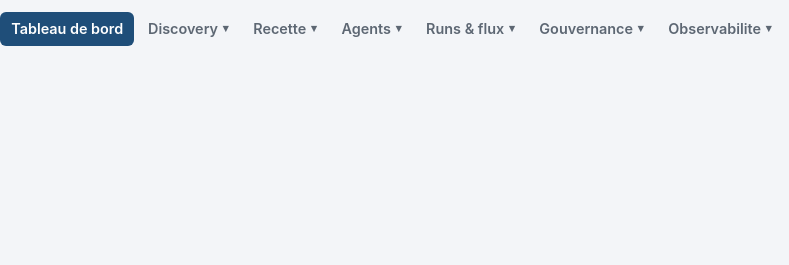
Test case: NavMenu › keeps group items hidden until the group button is clicked
Expected: the link "Reperage" is not shown
Click the button "Discovery ▾" at point(188, 29), box [137,12,240,46]
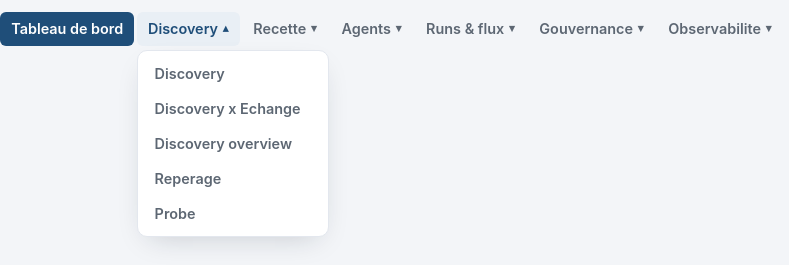
Expected: the link "Reperage" is shown, [155,170,221,187]
Expected: the link "Probe" is shown, [155,205,196,222]
